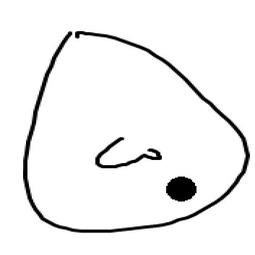nose: (89, 133, 166, 171)
open_mouth: (155, 169, 203, 206)
